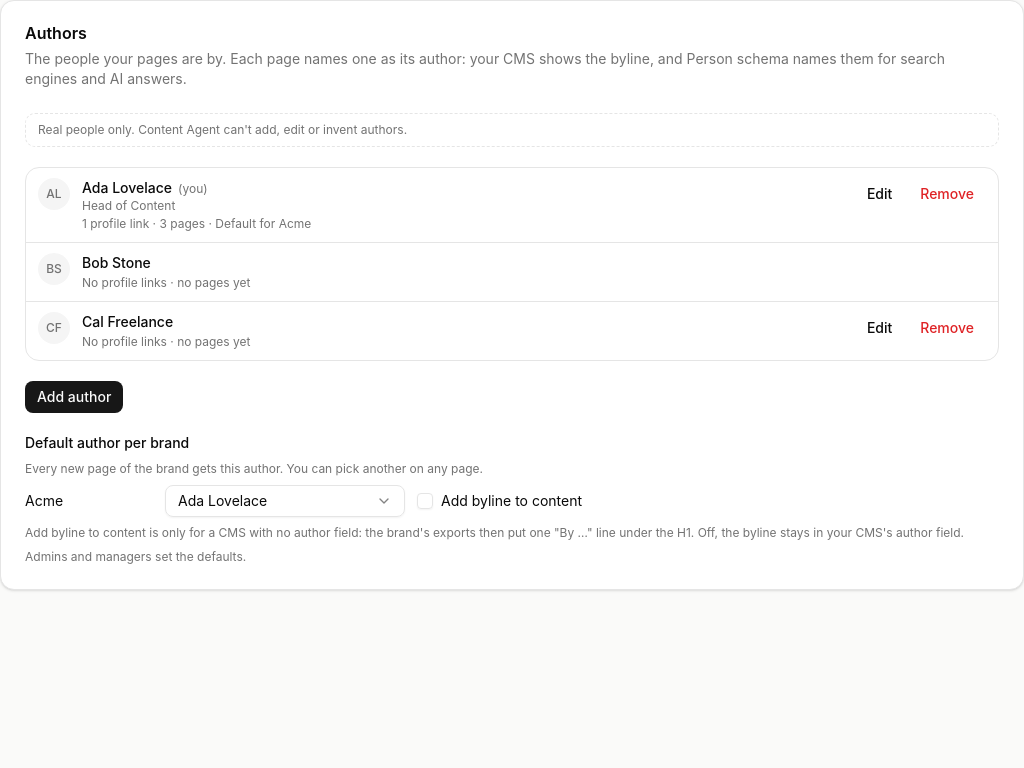
Scenario: AuthorsSection › says the author's pages go back to the team byline
The image size is (1024, 768).
Click the button "Remove" in the row of "(you)" at (947, 194), box [908,178,986,210]
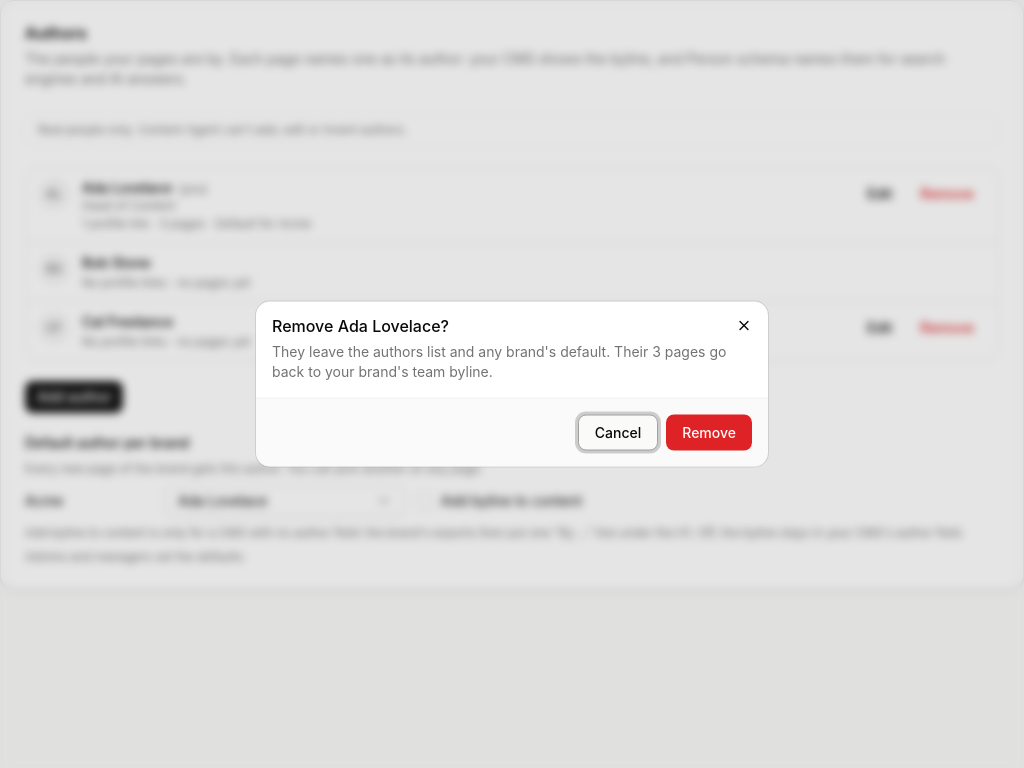
Expected: the text "Remove Ada Lovelace?" is shown, [272,316,449,336]
Expected: the text "Their 3 pages go back to your brand's team byline." is shown, [272,342,726,380]
